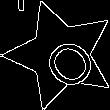O_NW: (26, 21, 95, 88)
